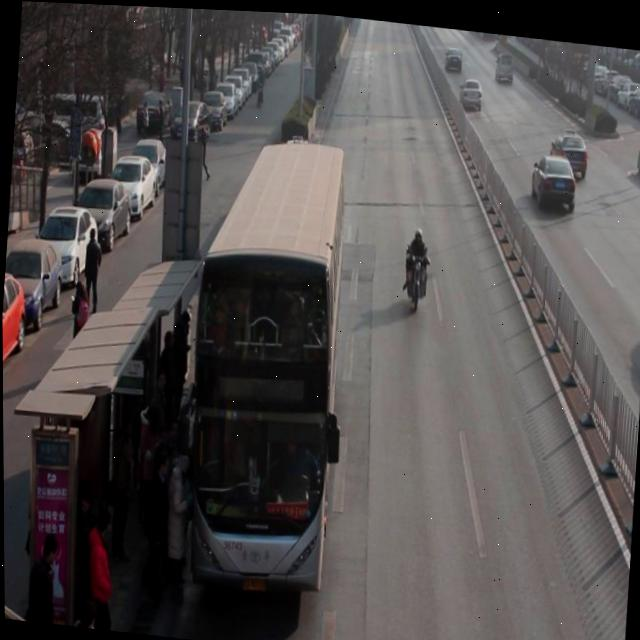car: (529, 149, 580, 214), (549, 123, 592, 179), (458, 74, 485, 112), (443, 42, 464, 72)
truck: (494, 47, 517, 83)
van: (177, 133, 351, 594)
